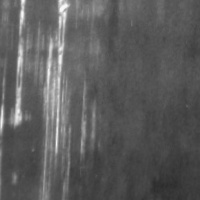scratches: (37, 0, 80, 180), (8, 0, 39, 129)
